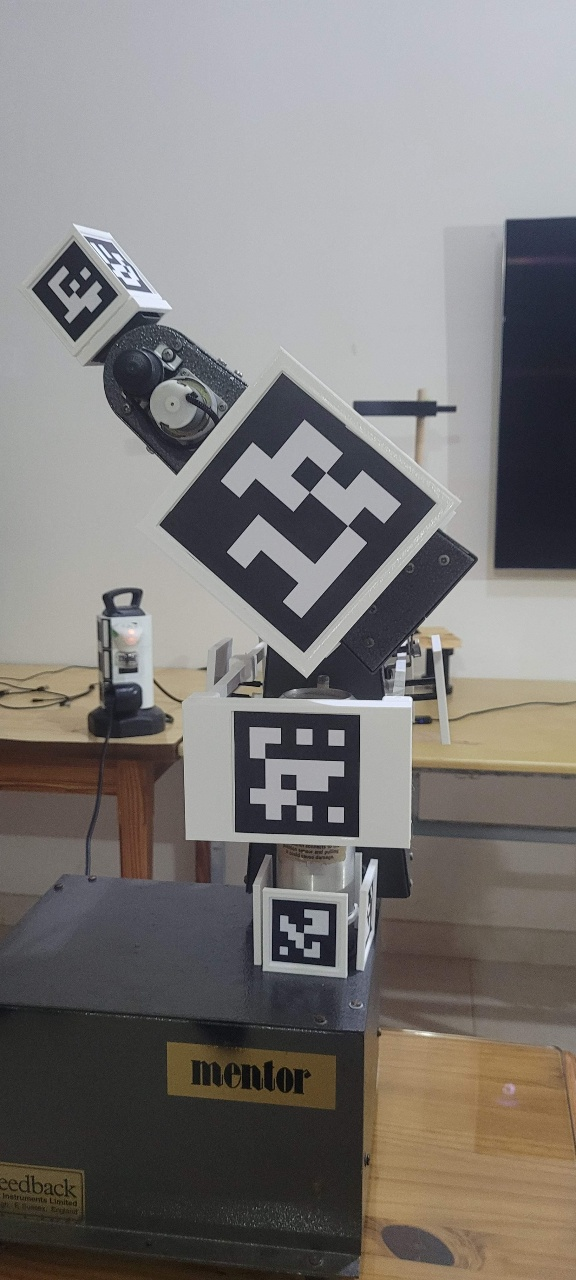Robot: (10, 364, 571, 839)
